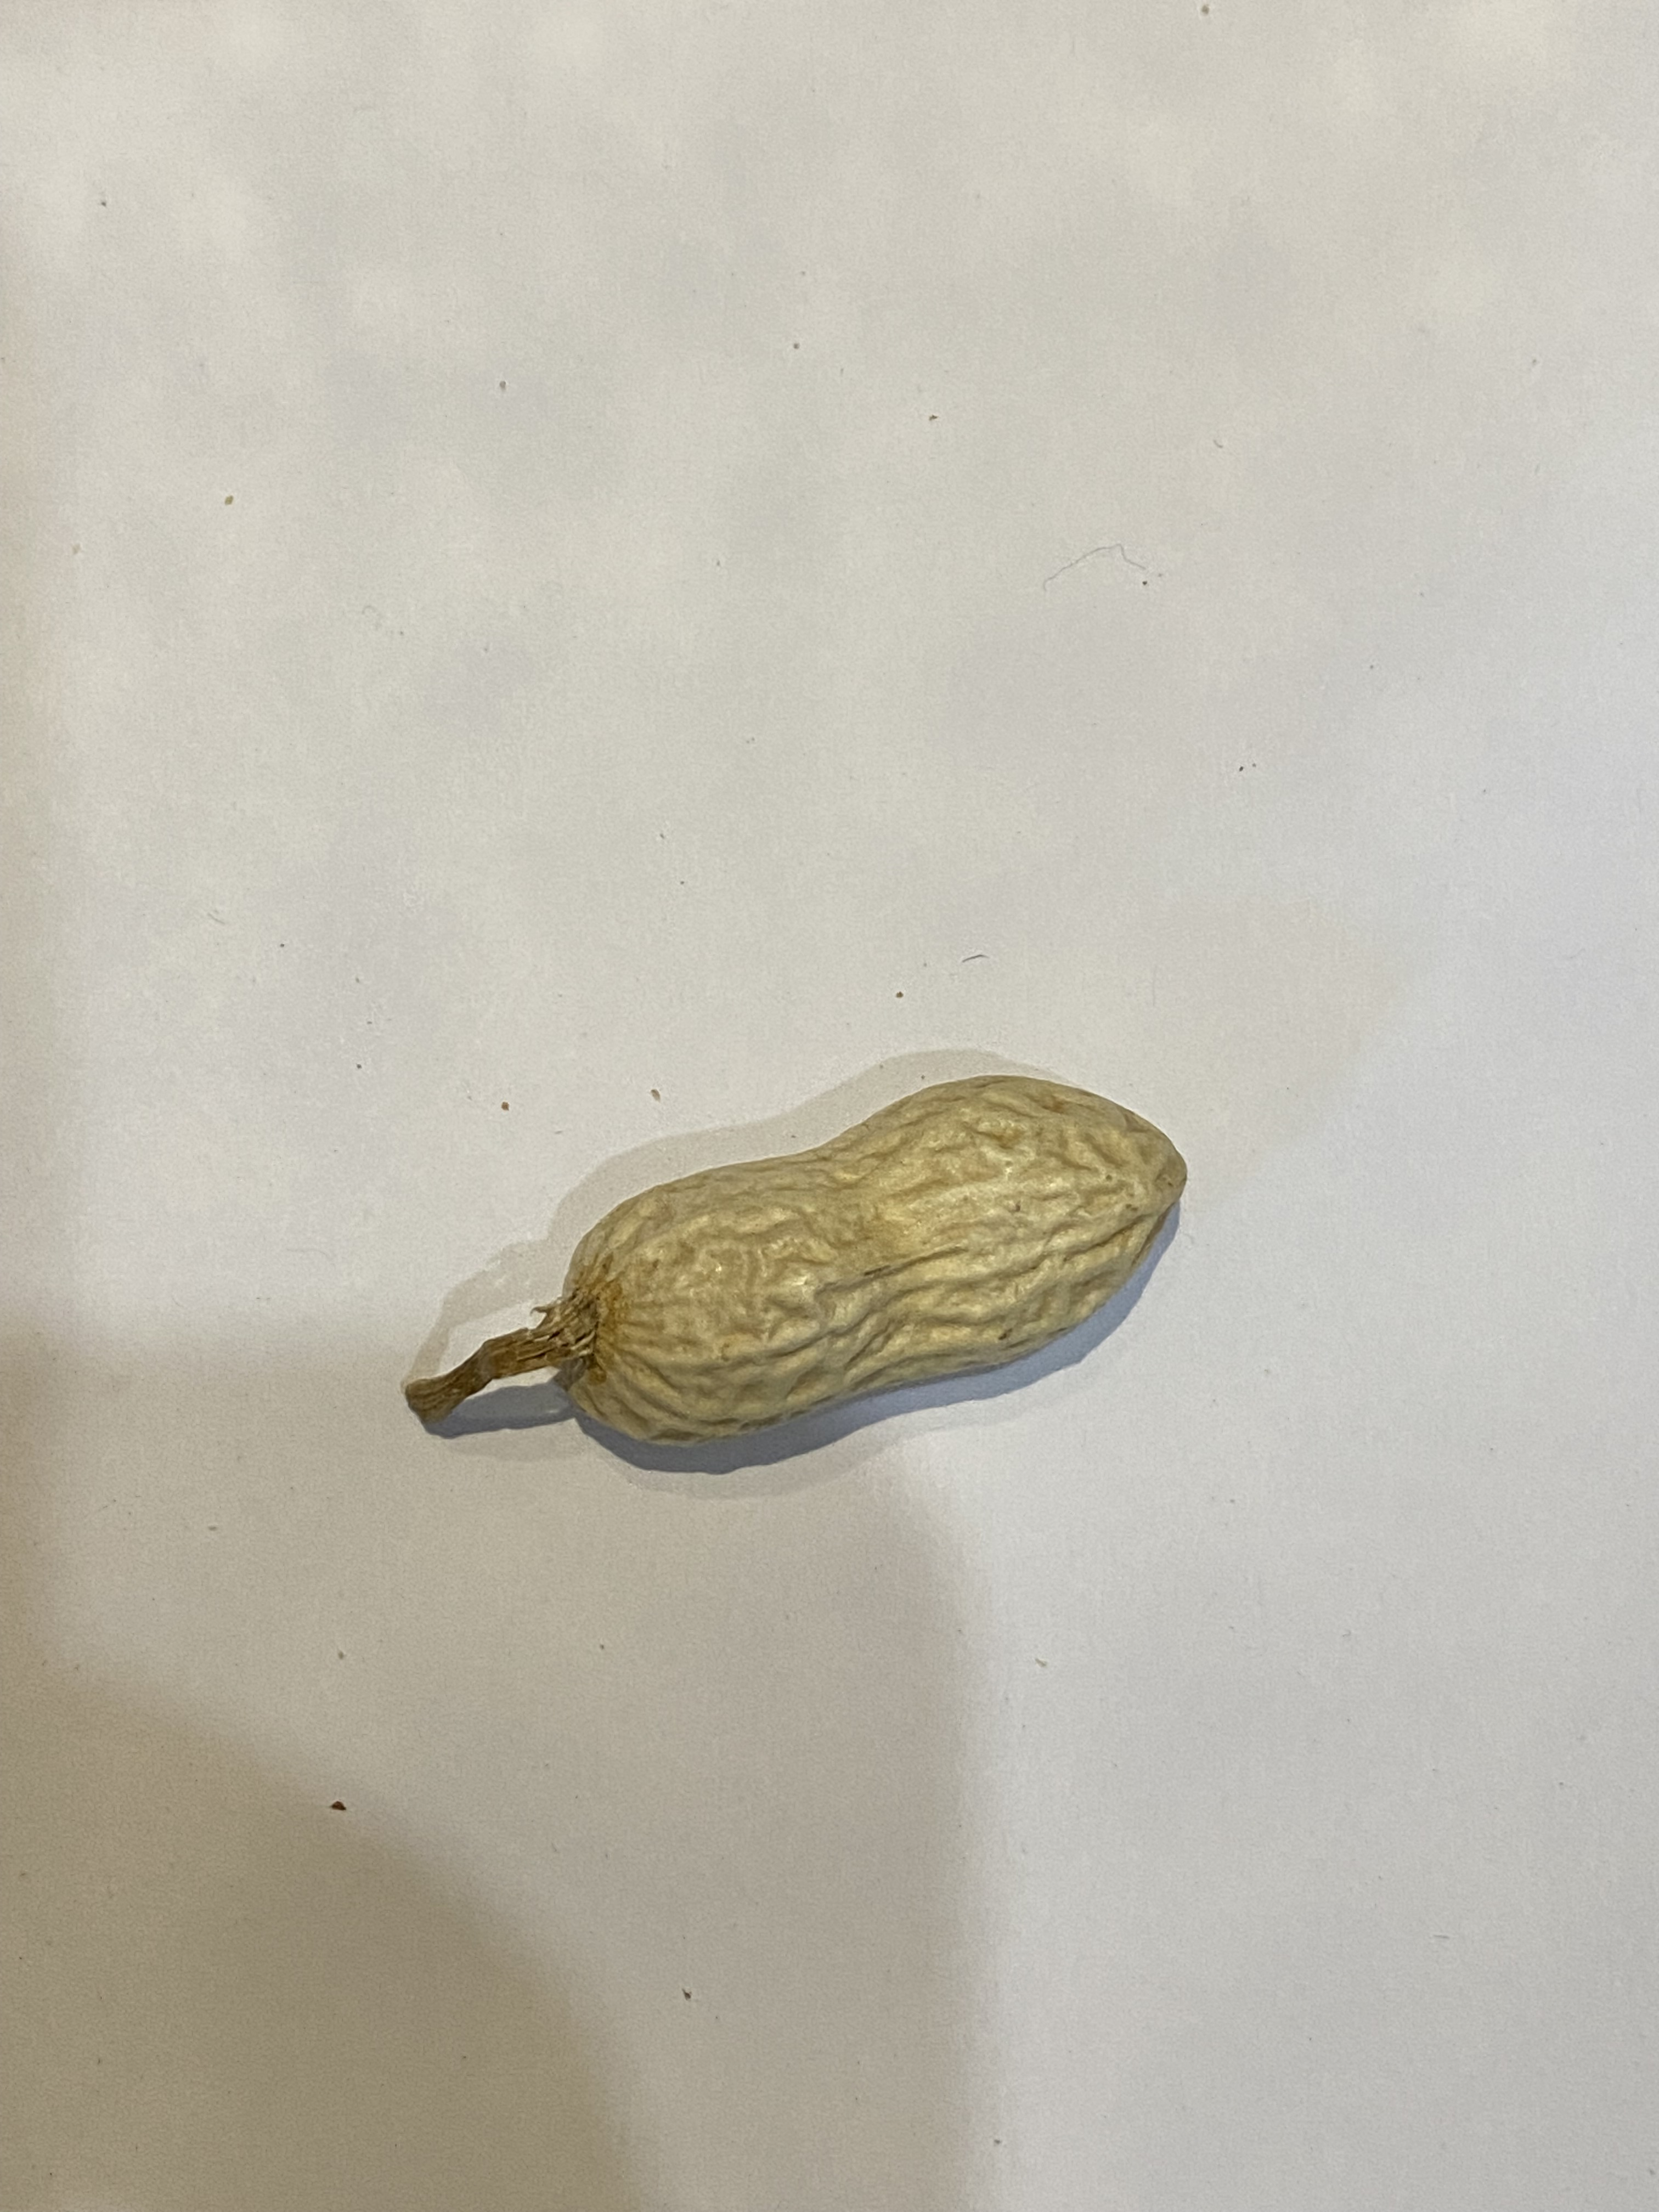kacang2: (558, 1052, 1215, 1470)
